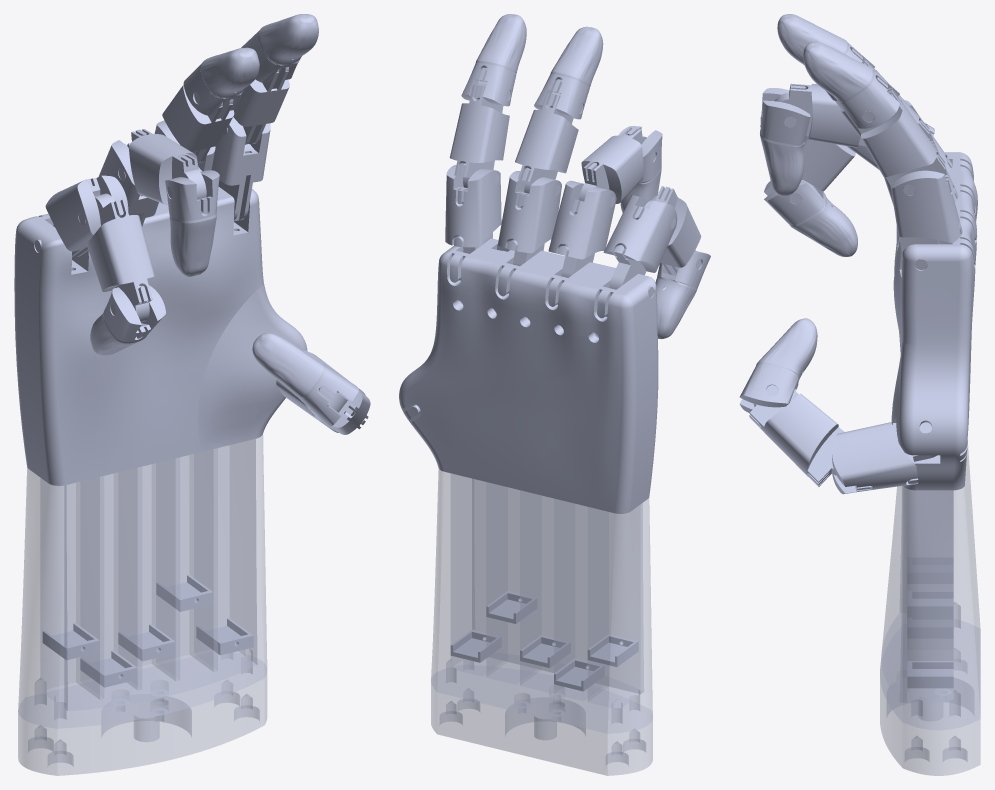
Rendered from hand.glb.
3 renders of one model, left to right at view 1: azimuth 30°, elevation 25°; view 2: azimuth 150°, elevation 25°; view 3: azimuth 270°, elevation 25°, orthographic. The views are drawn at different scales.
Visible parts, largest first — view 1: Wrist SPA Holder-1, Palm-1, Wrist Lid-1, Arm Mount-1, Middle Phalanx-1 (×5), Fingertip-1 (×5), Proximal Phalanx-1 (×3), Distal Phalanx-1 (×5), SPA Caps-2, SPA Caps-5, SPA Caps-1, SPA Caps-4 (+1 smaller); view 2: Palm-1, Wrist SPA Holder-1, Proximal Phalanx-1 (×4), Arm Mount-1, Wrist Lid-1, Middle Phalanx-1 (×4), Fingertip-1 (×4), Distal Phalanx-1 (×4), SPA Caps-2, SPA Caps-1, SPA Caps-3, SPA Caps-4 (+1 smaller); view 3: Wrist SPA Holder-1, Palm-1, Middle Phalanx-1 (×5), Fingertip-1 (×5), Arm Mount-1, Proximal Phalanx-1 (×2), Distal Phalanx-1 (×4), Wrist Lid-1, SPA Caps-1, SPA Caps-3, SPA Caps-5.
Part boxes in pixels (x1=…): Wrist SPA Holder-1: x1=18, y1=435, x2=266, y2=728; Palm-1: x1=14, y1=187, x2=307, y2=485; Wrist Lid-1: x1=64, y1=439, x2=257, y2=710; Arm Mount-1: x1=18, y1=658, x2=266, y2=775; Middle Phalanx-1 (×5): x1=86, y1=67, x2=370, y2=434; Fingertip-1 (×5): x1=90, y1=14, x2=325, y2=398; Proximal Phalanx-1 (×3): x1=45, y1=117, x2=270, y2=257; Distal Phalanx-1 (×5): x1=103, y1=30, x2=358, y2=425; SPA Caps-2: x1=42, y1=623, x2=99, y2=659; SPA Caps-5: x1=118, y1=624, x2=175, y2=661; SPA Caps-1: x1=196, y1=618, x2=253, y2=655; SPA Caps-4: x1=80, y1=650, x2=137, y2=687; Palm-1: x1=399, y1=238, x2=658, y2=513; Wrist SPA Holder-1: x1=431, y1=301, x2=652, y2=733; Proximal Phalanx-1 (×4): x1=445, y1=165, x2=677, y2=289; Arm Mount-1: x1=431, y1=669, x2=652, y2=775; Wrist Lid-1: x1=472, y1=479, x2=643, y2=693; Middle Phalanx-1 (×4): x1=449, y1=81, x2=701, y2=275; Fingertip-1 (×4): x1=475, y1=14, x2=697, y2=339; Distal Phalanx-1 (×4): x1=461, y1=63, x2=710, y2=288; SPA Caps-2: x1=587, y1=634, x2=638, y2=666; SPA Caps-1: x1=450, y1=629, x2=501, y2=662; SPA Caps-3: x1=486, y1=591, x2=536, y2=623; SPA Caps-4: x1=554, y1=658, x2=604, y2=691; Wrist SPA Holder-1: x1=880, y1=444, x2=980, y2=729; Palm-1: x1=891, y1=152, x2=977, y2=490; Middle Phalanx-1 (×5): x1=749, y1=57, x2=945, y2=486; Fingertip-1 (×5): x1=756, y1=14, x2=874, y2=382; Arm Mount-1: x1=880, y1=621, x2=980, y2=775; Proximal Phalanx-1 (×2): x1=832, y1=167, x2=962, y2=494; Distal Phalanx-1 (×4): x1=739, y1=70, x2=899, y2=412; Wrist Lid-1: x1=881, y1=486, x2=906, y2=702; SPA Caps-1: x1=907, y1=661, x2=953, y2=688; SPA Caps-3: x1=907, y1=591, x2=953, y2=617; SPA Caps-5: x1=908, y1=618, x2=952, y2=637.
Size of the model in its own units: 0.1298 by 0.3154 by 0.0957.
